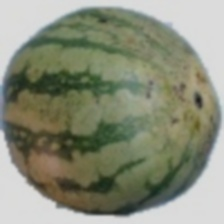watermelon: (30, 29, 189, 167)
